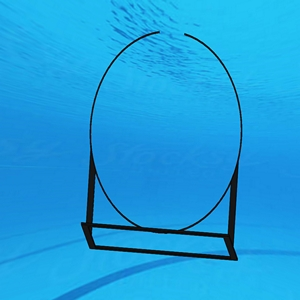circle: (80, 27, 244, 264)
